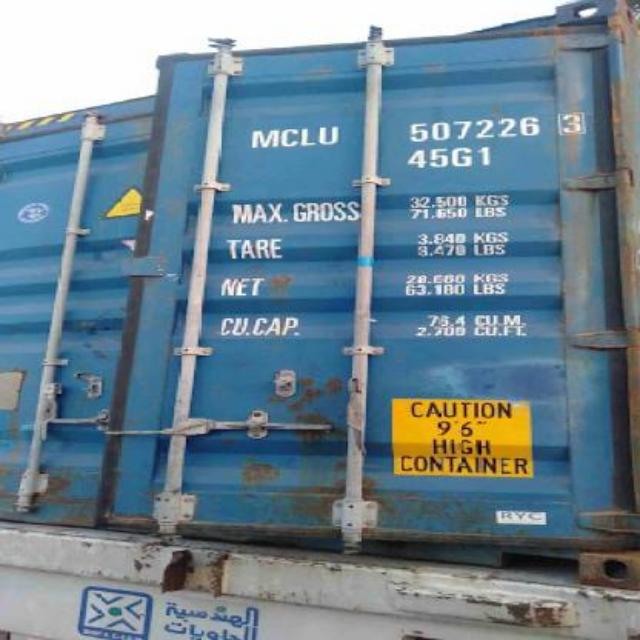0: (428, 116, 452, 144)
2: (474, 111, 498, 141), (494, 112, 518, 140)
3: (556, 109, 584, 135)
5: (404, 117, 430, 143)
6: (516, 109, 542, 141)
7: (446, 113, 474, 143)
C: (280, 123, 302, 155)
L: (300, 122, 318, 154)
M: (250, 125, 280, 151)
U: (314, 120, 340, 152)
